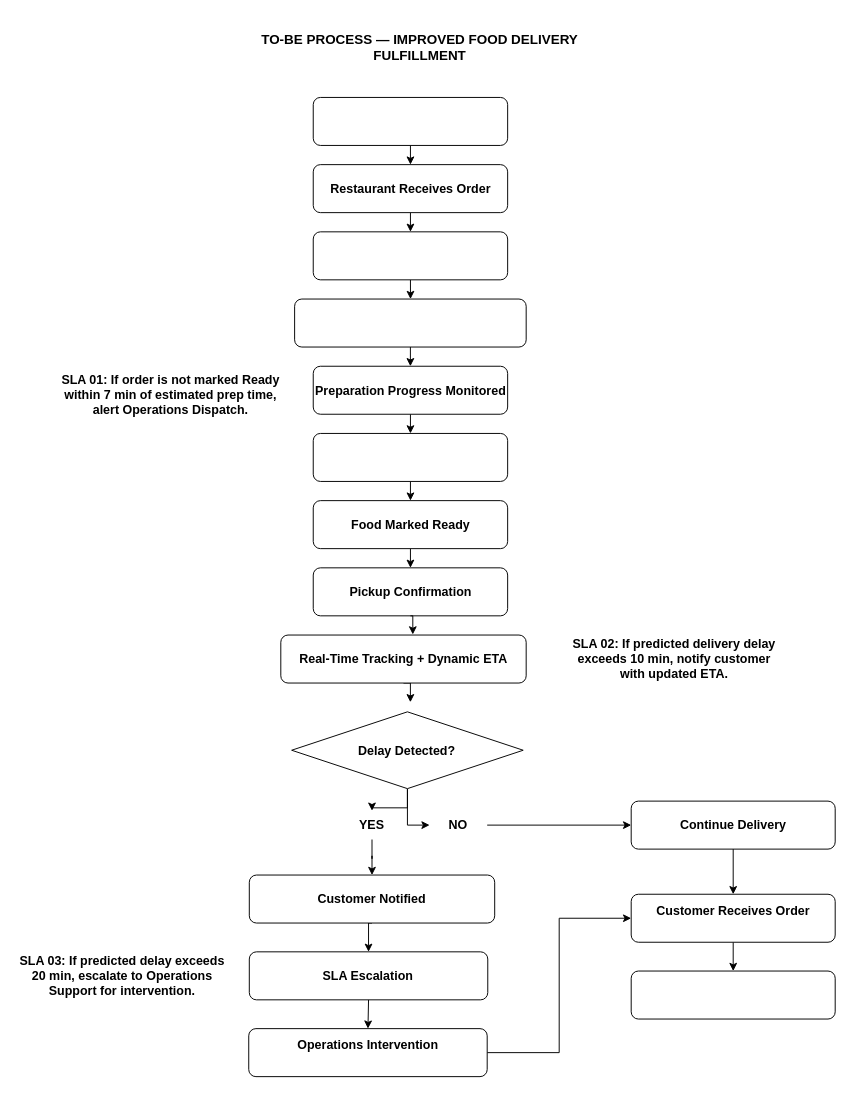
This 852x1098 diagram has some shape labels left out. The shapes that lost their labels are listed below. From the top down, each one's centre as x and y in pixels, then its label:
the point at 410,120: Customer Places Order
the point at 410,255: Restaurant Confirms Order
the point at 410,322: Dynamic Preparation-Time Estimate
the point at 410,456: Early / Optimized Rider Dispatch
the point at 732,994: Order Completed
